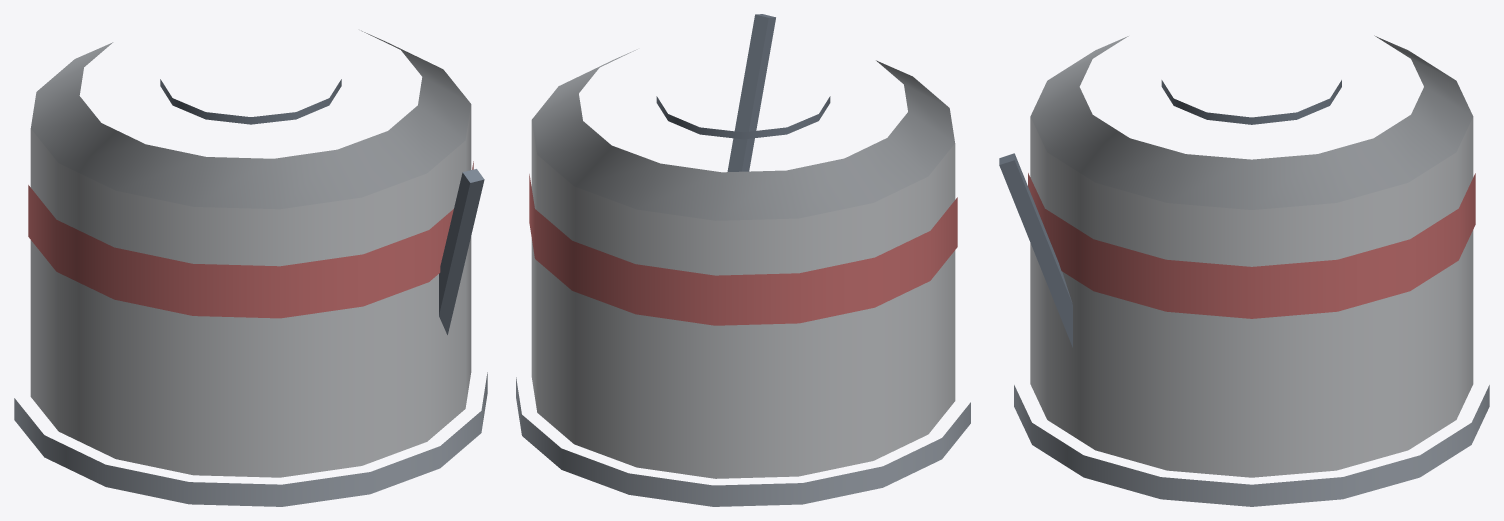
The model's file is refinery-tank.glb.
3 views of the same model, side by side, from view 1: azimuth 30°, elevation 25°; view 2: azimuth 150°, elevation 25°; view 3: azimuth 270°, elevation 25° (orthographic). The views are drawn at different scales.
Parts seen in each view (by area): view 1: Root; view 2: Root; view 3: Root.
Boxes of the visible parts, x1,y1,x2,y2 form: Root: (14,30,487,506); Root: (516,14,970,506); Root: (999,35,1489,506).
Bounding box in the file's own units: 11.6 × 8.8 × 11.96.
